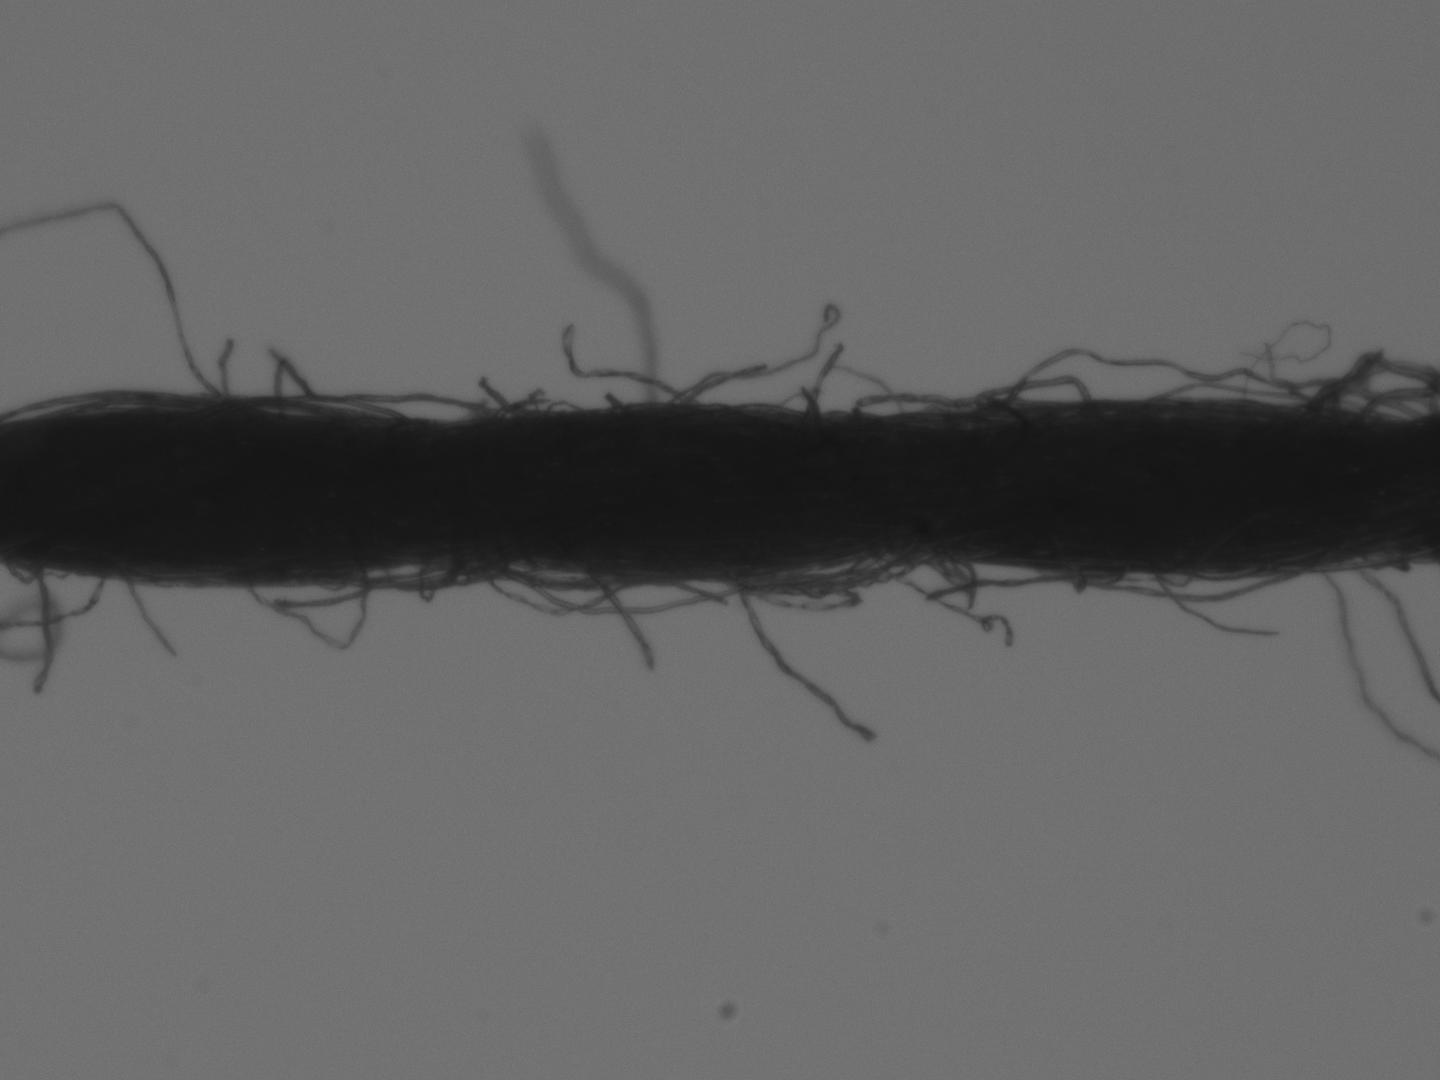loop_fiber: (1005, 345, 1411, 413), (705, 529, 975, 619), (192, 385, 587, 442), (522, 564, 779, 623), (848, 371, 1089, 414), (341, 547, 505, 597), (485, 555, 628, 591), (7, 564, 63, 588)
protruding_fiber: (723, 568, 879, 748), (115, 576, 183, 655)
